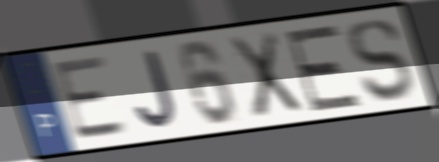6: (178, 37, 238, 130)
E: (282, 22, 365, 115), (50, 52, 133, 143)
J: (132, 48, 180, 132)
S: (346, 16, 417, 106)
X: (225, 28, 305, 122)
